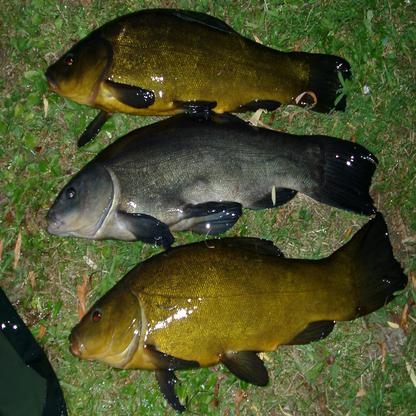fish: (70, 244, 401, 414), (43, 118, 381, 241), (45, 5, 352, 115)
